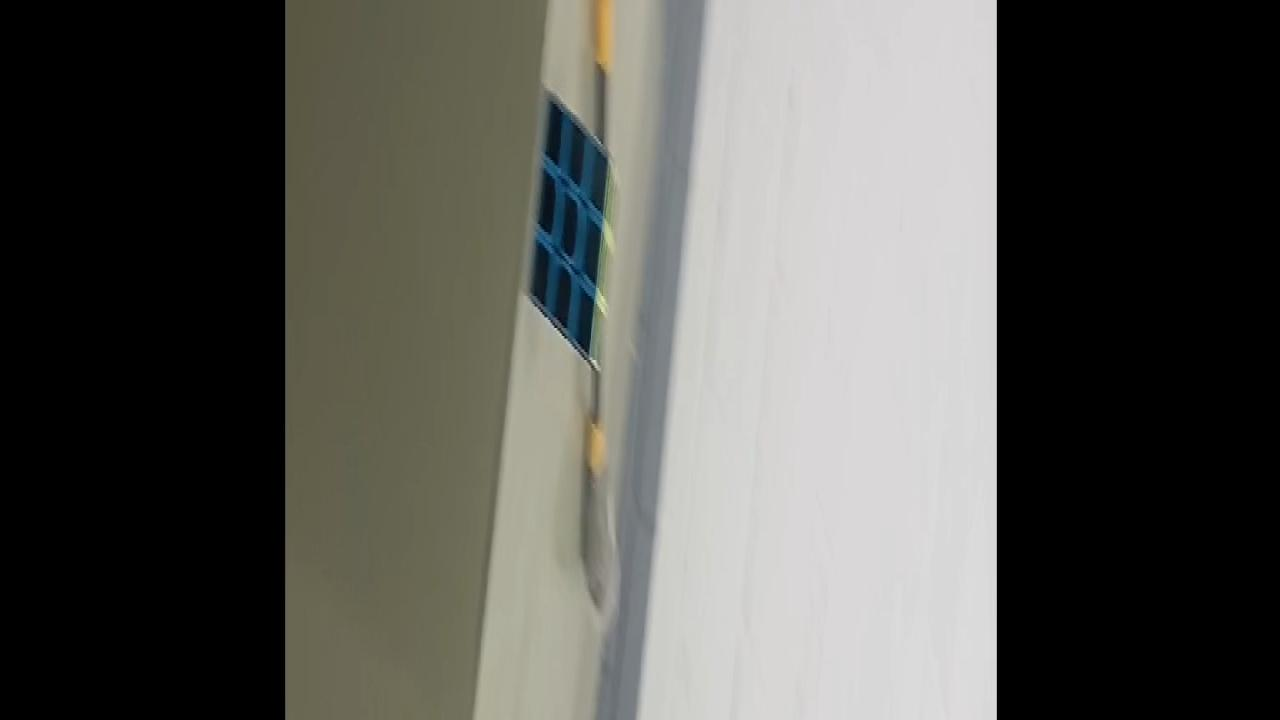Cube: (520, 80, 622, 376)
